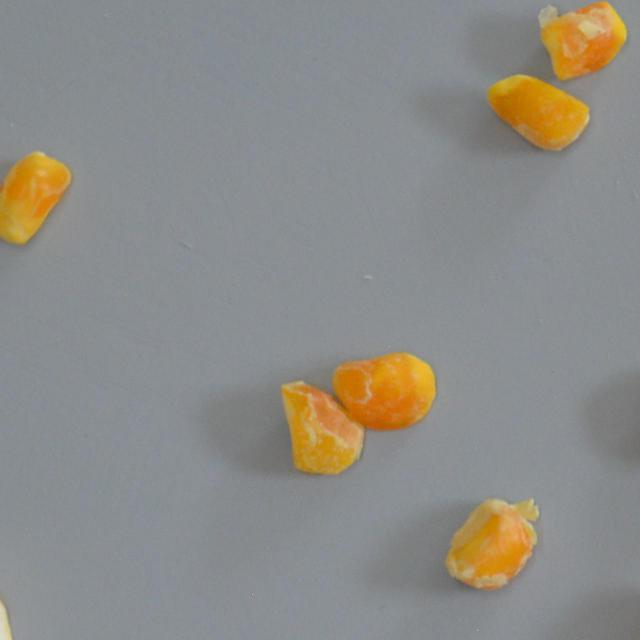dañado: (442, 488, 546, 599), (484, 62, 594, 158), (276, 377, 368, 478), (332, 348, 438, 431), (532, 0, 630, 82), (0, 146, 74, 252), (0, 550, 16, 640)
